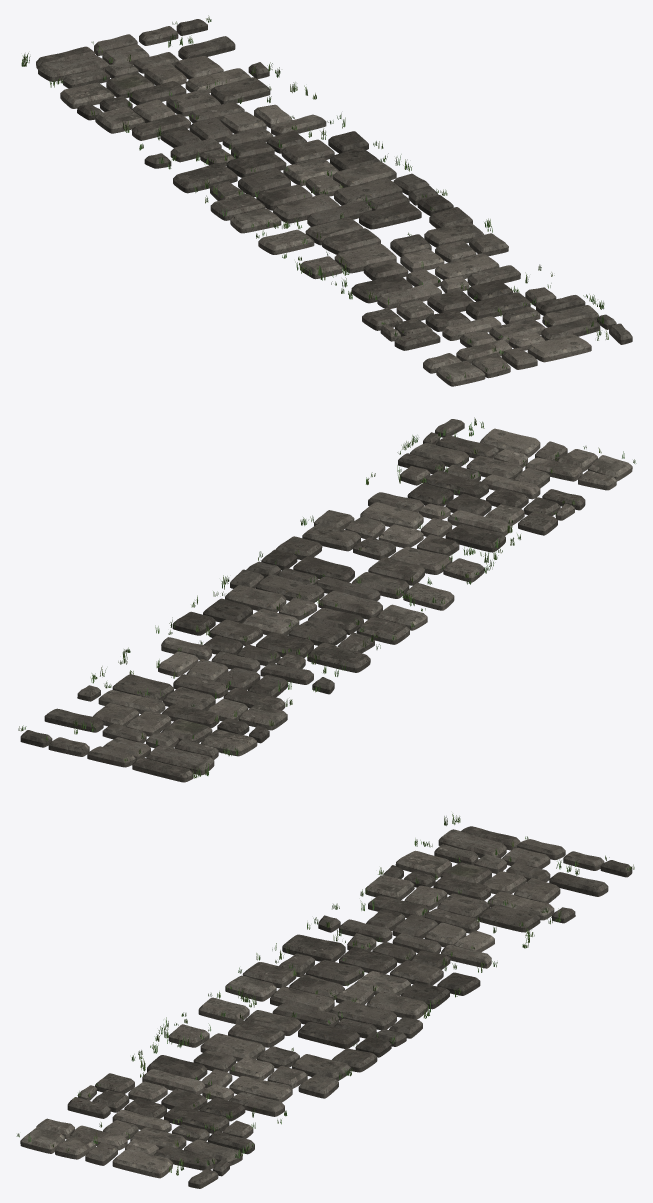
Rendered from ER_Chemin_Dalles_3x12m.gltf.
3 views of the same model, one above another, from view 1: azimuth 30°, elevation 25°; view 2: azimuth 150°, elevation 25°; view 3: azimuth 330°, elevation 25° (orthographic).
Parts seen in each view (by area): view 1: ER_Chemin_Dalles_3x12m_DAL.001, ER_Chemin_Dalles_3x12m_HER.001; view 2: ER_Chemin_Dalles_3x12m_DAL.001, ER_Chemin_Dalles_3x12m_HER.001; view 3: ER_Chemin_Dalles_3x12m_DAL.001, ER_Chemin_Dalles_3x12m_HER.001.
Boxes of the visible parts, bbox=[...] form: ER_Chemin_Dalles_3x12m_DAL.001: bbox=[36, 19, 632, 386]; ER_Chemin_Dalles_3x12m_HER.001: bbox=[21, 15, 608, 378]; ER_Chemin_Dalles_3x12m_DAL.001: bbox=[20, 419, 632, 782]; ER_Chemin_Dalles_3x12m_HER.001: bbox=[18, 417, 636, 778]; ER_Chemin_Dalles_3x12m_DAL.001: bbox=[20, 826, 632, 1188]; ER_Chemin_Dalles_3x12m_HER.001: bbox=[16, 814, 634, 1175].
Bounding box in the file's own units: 3.08 × 0.3111 × 12.05.
3 materials, 2 textured.
